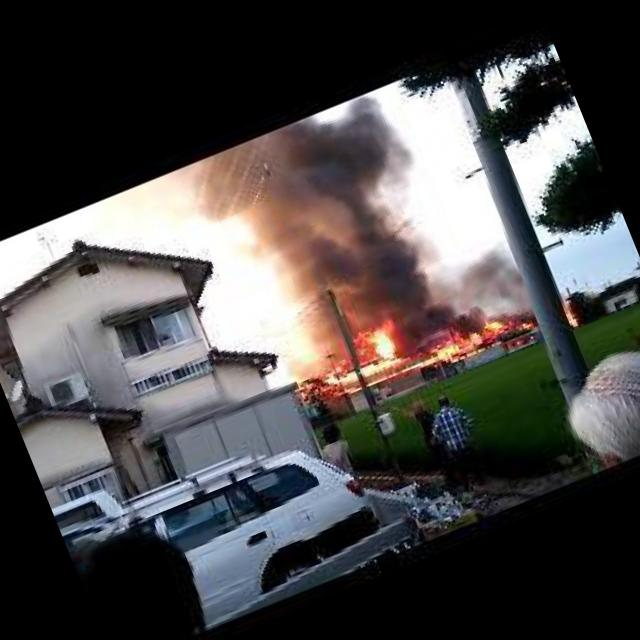fire: (342, 319, 514, 402), (287, 325, 403, 402), (561, 304, 577, 326), (519, 317, 536, 331)
smoke: (207, 98, 466, 384)
